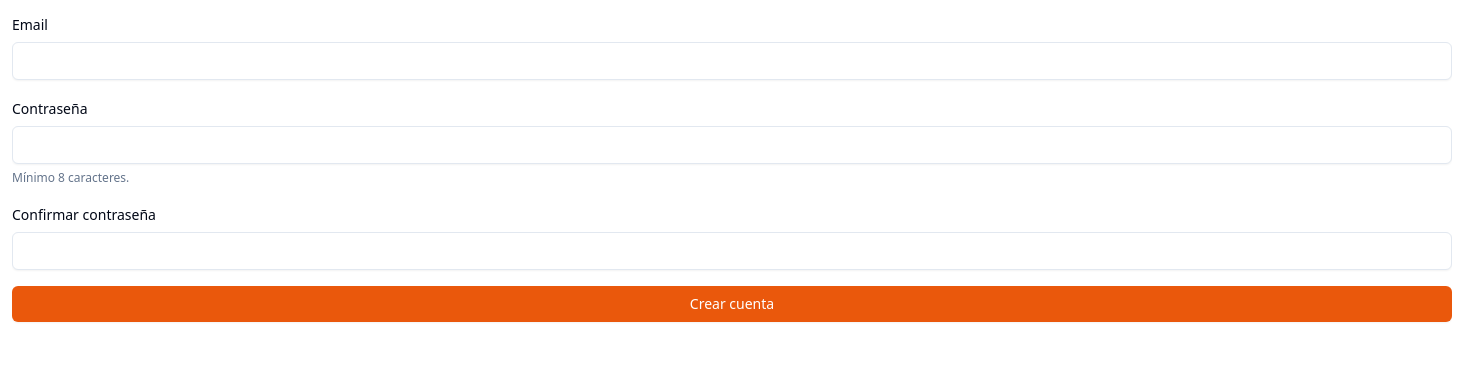
Test: RegisterForm › maps an "already registered" backend error to Spanish
Type "a@b.com" into the field labelled "Email" at (732, 61), box [12,42,1452,80]
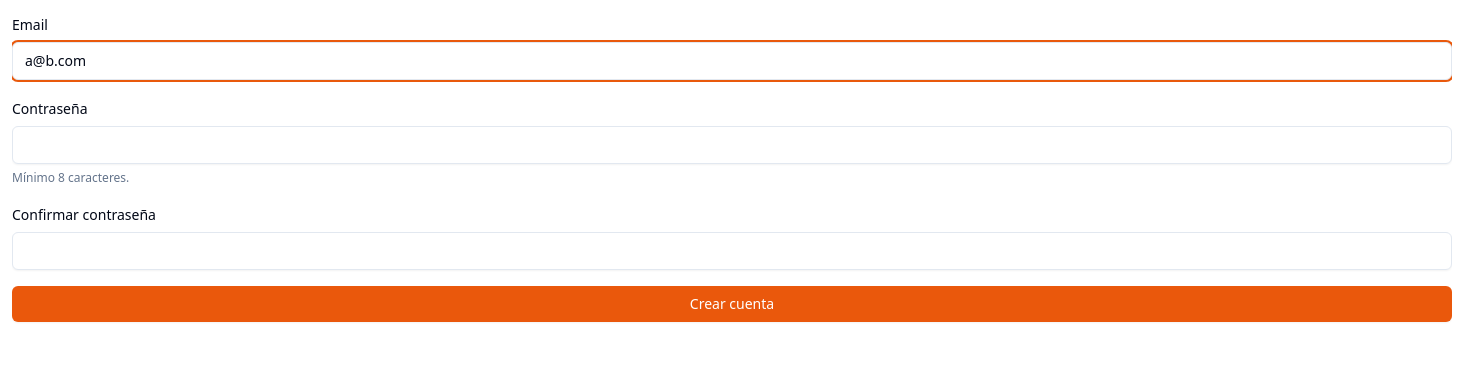
Type "pwd12345" into the password field labelled "Contraseña" at (732, 145), box [12,126,1452,164]
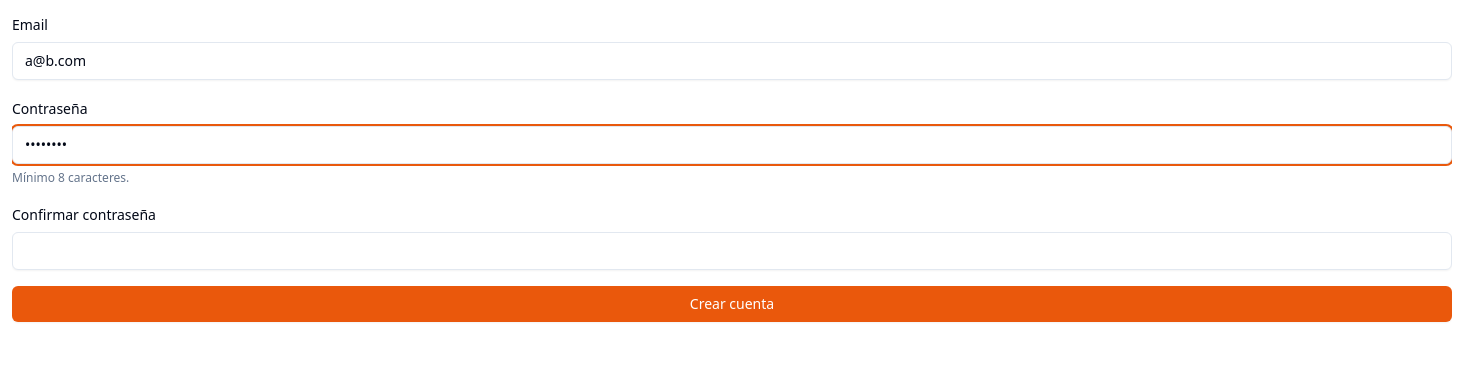
Type "pwd12345" into the password field labelled "Confirmar contraseña" at (732, 251), box [12,232,1452,270]
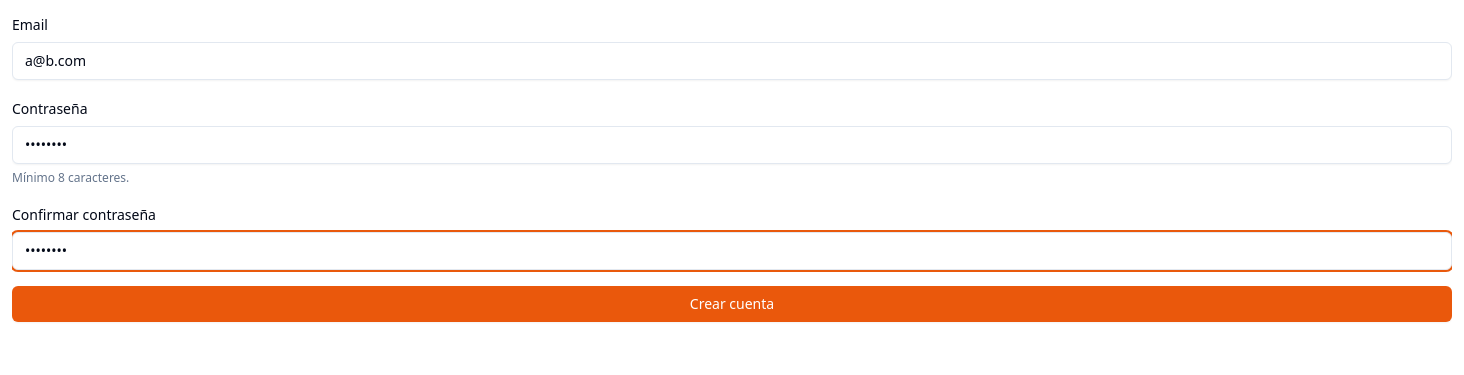
Click the button "Crear cuenta" at (732, 304), box [12,286,1452,322]
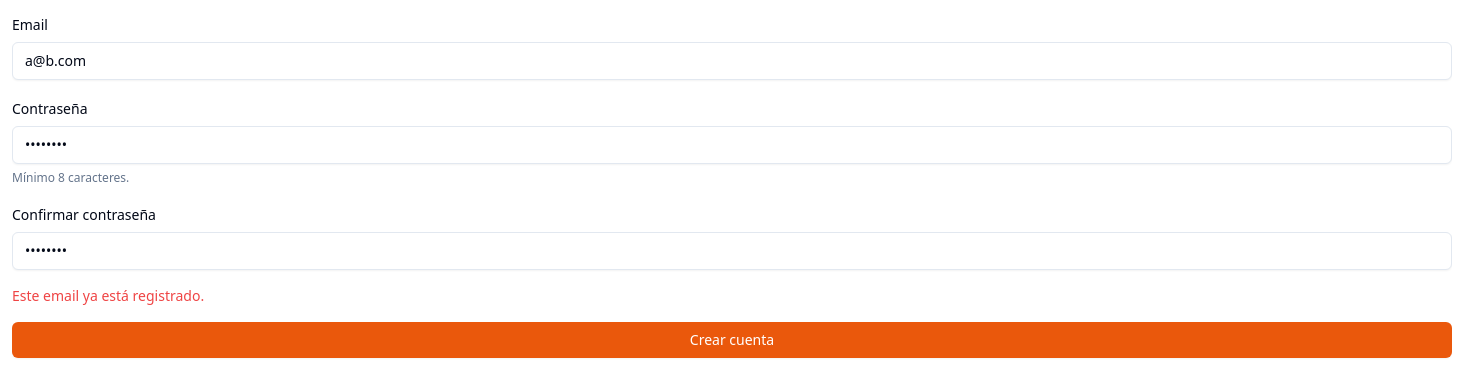
Expected: the message shows "ya está registrado", [12,286,204,305]
